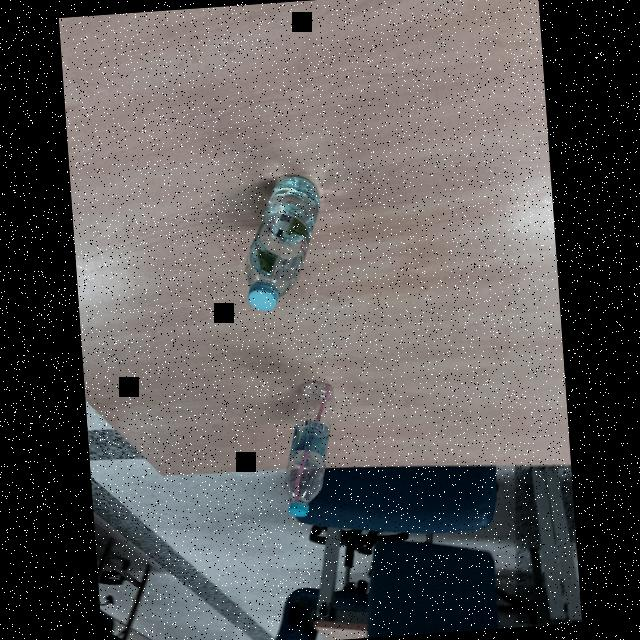plastic_bottle: (236, 168, 328, 316), (275, 374, 339, 522)
plastic_bottle_cap: (247, 280, 280, 312), (287, 500, 309, 520)
straw: (286, 381, 337, 505)
